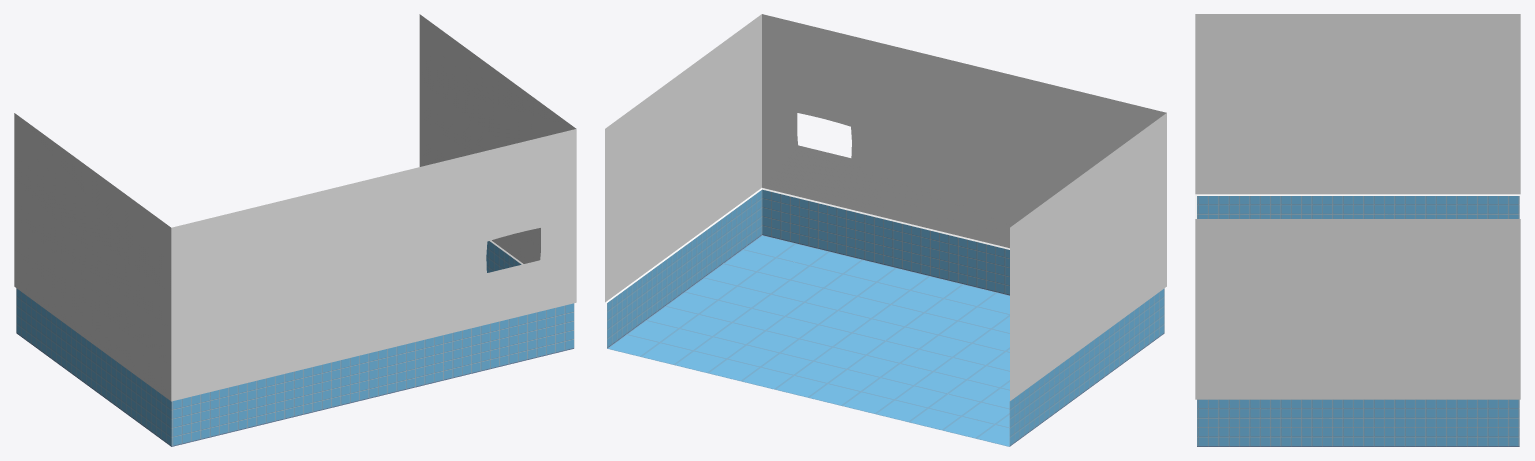
The model's file is Room.fbx.
The picture shows the model from 3 angles, left to right: view 1: azimuth 30°, elevation 25°; view 2: azimuth 150°, elevation 25°; view 3: azimuth 270°, elevation 25°; orthographic projection. The views are drawn at different scales.
Visible parts, largest first — view 1: Room; view 2: Room; view 3: Room.
Part boxes in pixels (left/top/right/bottom): Room: left=14, top=14, right=576, bottom=446; Room: left=605, top=14, right=1166, bottom=446; Room: left=1195, top=14, right=1520, bottom=446.
Size of the model in its own units: 584 by 303 by 392.
